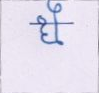ai_matra: (47, 0, 63, 22)
